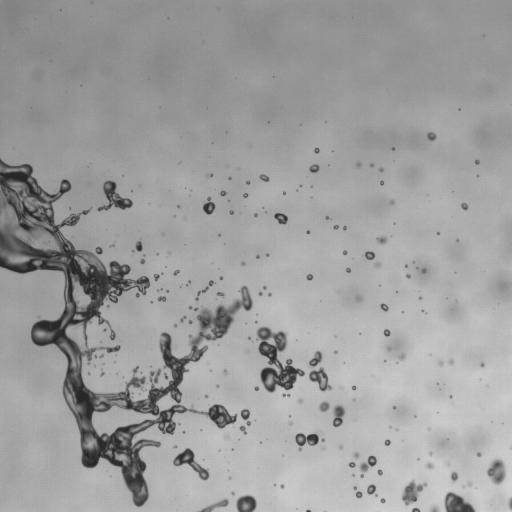droplet: (256, 326, 305, 397), (97, 180, 132, 211), (401, 480, 427, 505), (443, 491, 475, 511), (294, 431, 324, 450), (486, 458, 506, 484), (236, 494, 257, 511), (332, 405, 345, 427), (202, 196, 215, 214), (274, 212, 287, 224), (366, 484, 377, 496), (318, 401, 329, 412), (376, 236, 387, 244), (134, 240, 142, 251), (364, 251, 375, 259), (309, 164, 319, 172), (450, 471, 458, 481), (427, 132, 436, 140), (428, 505, 440, 511), (259, 174, 269, 181), (380, 303, 388, 311), (461, 202, 468, 210), (426, 462, 433, 469), (157, 296, 166, 301), (153, 274, 160, 280), (306, 274, 313, 280), (384, 329, 390, 336), (399, 353, 405, 360), (220, 190, 226, 196), (356, 295, 362, 301), (353, 452, 359, 458), (140, 256, 145, 263), (348, 462, 355, 467), (314, 147, 319, 153), (374, 262, 380, 267), (173, 270, 179, 275), (385, 439, 390, 445), (377, 469, 382, 475), (217, 292, 224, 296), (356, 162, 361, 167), (448, 359, 453, 364), (438, 361, 443, 366), (297, 398, 302, 403), (338, 445, 343, 450), (467, 481, 472, 486), (380, 498, 385, 503), (333, 225, 338, 229), (343, 250, 347, 255), (188, 319, 192, 324), (480, 362, 484, 367), (100, 370, 104, 375), (164, 373, 168, 378), (224, 435, 229, 439), (476, 452, 481, 456), (475, 160, 479, 164), (379, 168, 383, 172), (243, 193, 247, 197), (390, 200, 394, 204), (229, 210, 233, 214), (241, 261, 245, 265), (346, 268, 350, 272), (422, 269, 426, 273), (406, 274, 410, 278), (223, 370, 227, 374), (254, 386, 258, 390), (445, 462, 449, 466), (280, 484, 284, 488), (207, 174, 212, 177), (370, 163, 373, 167), (306, 230, 309, 234), (187, 280, 190, 284), (173, 323, 176, 327), (99, 354, 103, 357), (352, 386, 356, 389), (246, 181, 249, 184), (380, 181, 383, 184), (254, 213, 257, 216), (326, 216, 329, 219), (343, 226, 346, 229), (263, 286, 266, 289), (259, 292, 262, 295), (387, 347, 390, 350), (334, 350, 337, 353), (205, 395, 208, 398), (429, 452, 432, 455), (462, 485, 465, 488), (111, 243, 113, 247), (228, 177, 231, 179), (177, 205, 180, 207), (266, 253, 268, 256), (256, 255, 259, 257), (220, 276, 222, 279), (166, 290, 169, 292), (268, 293, 271, 295), (419, 296, 421, 299), (449, 395, 452, 397), (289, 422, 292, 424), (231, 492, 234, 494), (158, 288, 160, 290), (393, 406, 395, 408), (174, 446, 176, 448)
ligament: (0, 159, 252, 506), (172, 448, 209, 480), (308, 351, 331, 391), (198, 498, 228, 511), (195, 280, 214, 300), (359, 455, 376, 477), (353, 486, 362, 498), (411, 507, 421, 511), (508, 497, 511, 510), (180, 315, 185, 322), (306, 509, 311, 511)
